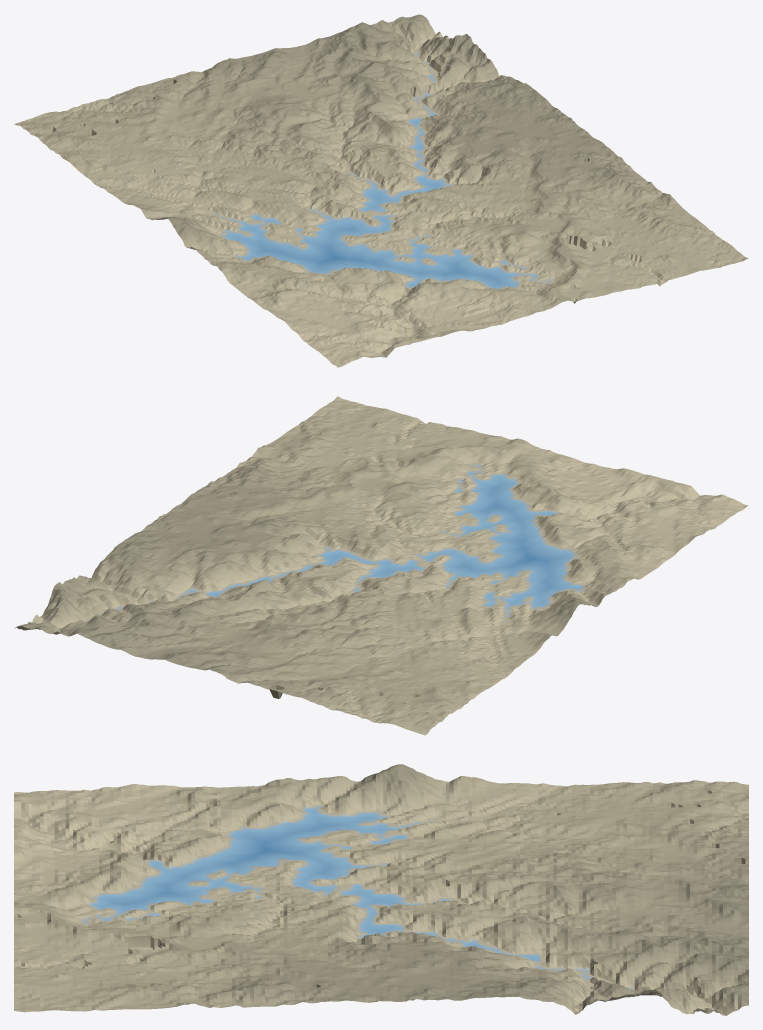
Rendered from new_melones_lake_ca.glb.
3 renders of one model, top to bottom at view 1: azimuth 30°, elevation 25°; view 2: azimuth 150°, elevation 25°; view 3: azimuth 270°, elevation 25°, orthographic. The views are drawn at different scales.
Parts seen in each view (by area): view 1: terrain, water; view 2: terrain, water; view 3: terrain, water.
Part boxes in pixels (box(x1,y1,x2,y2)): terrain: box(14, 14, 748, 367); water: box(225, 76, 536, 288); terrain: box(14, 396, 748, 735); water: box(189, 472, 582, 607); terrain: box(14, 764, 748, 1015); water: box(91, 808, 541, 968).
Bounding box in the file's own units: 17107 × 1171 × 23292.
